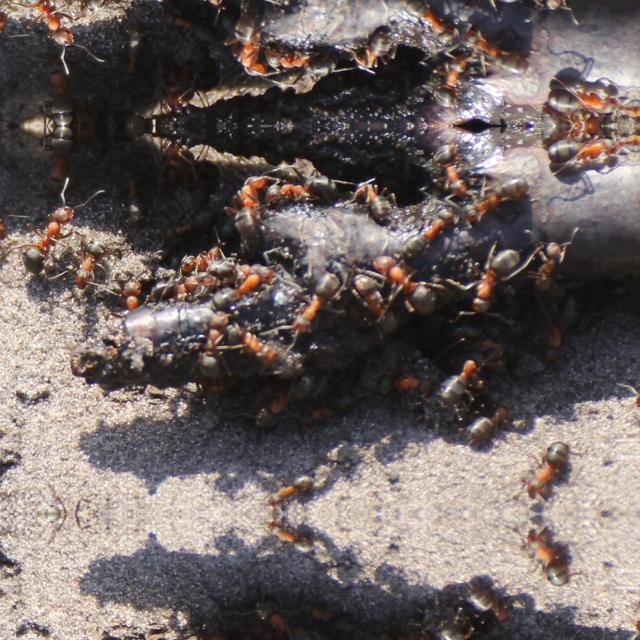Formica: (11, 176, 97, 274), (11, 0, 97, 74), (215, 256, 297, 324), (377, 246, 451, 318), (452, 166, 530, 234), (452, 18, 530, 86), (463, 244, 529, 324), (284, 264, 350, 342), (224, 162, 280, 252), (224, 0, 280, 90), (388, 191, 462, 259), (435, 348, 517, 408), (266, 163, 352, 217), (266, 35, 352, 89), (386, 0, 460, 60), (29, 126, 95, 190), (29, 62, 95, 126), (444, 312, 518, 368), (340, 263, 402, 329), (506, 448, 580, 500), (506, 528, 580, 580), (463, 383, 522, 447), (194, 312, 240, 392), (462, 580, 522, 640), (150, 141, 212, 197), (150, 55, 212, 111), (526, 235, 586, 289), (551, 132, 631, 172), (551, 80, 631, 120), (70, 230, 118, 294), (536, 291, 574, 367), (227, 324, 290, 368), (354, 180, 406, 232), (354, 20, 406, 72), (264, 464, 322, 510), (264, 518, 322, 564), (424, 149, 476, 195), (424, 57, 476, 103), (120, 173, 158, 234), (120, 18, 158, 78), (148, 262, 202, 302), (107, 270, 145, 324), (392, 360, 440, 400), (435, 618, 517, 640), (70, 0, 118, 22), (173, 245, 219, 267), (524, 0, 584, 16), (392, 628, 440, 640), (173, 0, 219, 6)
